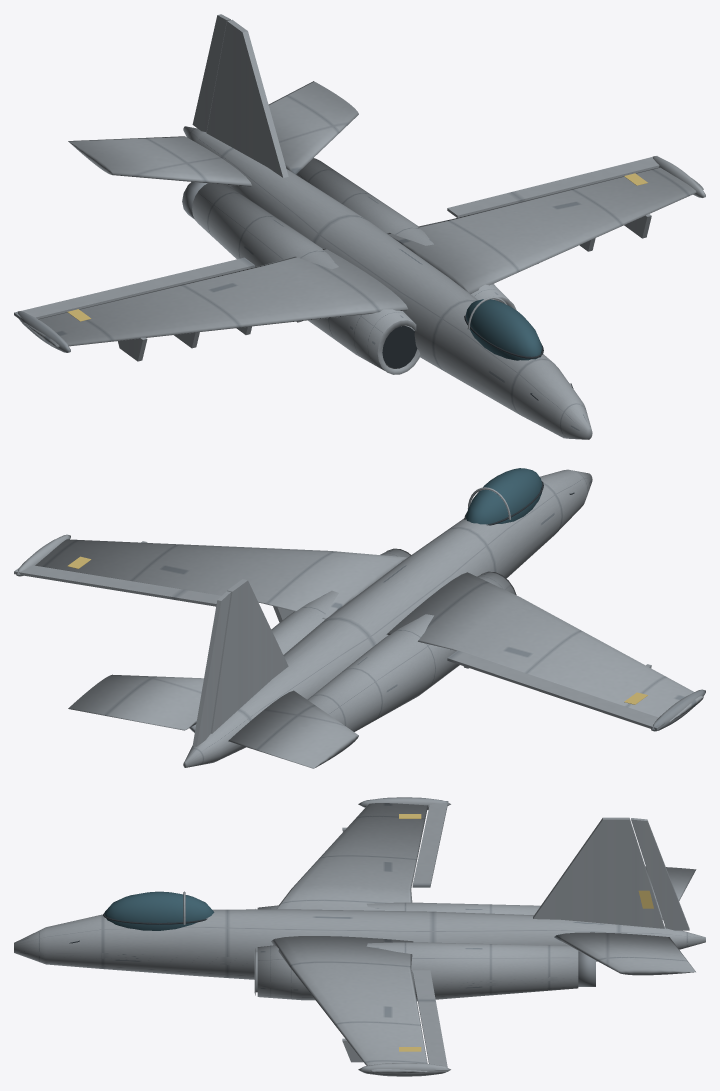
3 renders of one model, top to bottom at view 1: azimuth 30°, elevation 25°; view 2: azimuth 150°, elevation 25°; view 3: azimuth 270°, elevation 25°, orthographic. The views are drawn at different scales.
Visible parts, largest first — view 1: airframe_static, elevator_L, elevator_R, canopy, aileron_L, aileron_R, rudder_center; view 2: airframe_static, elevator_L, elevator_R, canopy, aileron_L, aileron_R, rudder_center; view 3: airframe_static, elevator_R, canopy, rudder_center, aileron_R, aileron_L, elevator_L.
Boxes of the visible parts, <box> form: airframe_static: <box>18,19,705,439</box>; elevator_L: <box>68,136,251,186</box>; elevator_R: <box>268,81,358,174</box>; canopy: <box>464,296,543,360</box>; aileron_L: <box>14,257,254,319</box>; aileron_R: <box>447,156,659,217</box>; rudder_center: <box>192,14,230,132</box>; airframe_static: <box>16,469,705,767</box>; elevator_L: <box>228,690,358,768</box>; elevator_R: <box>68,674,203,730</box>; canopy: <box>464,468,543,525</box>; aileron_L: <box>447,650,665,730</box>; aileron_R: <box>14,565,221,606</box>; rudder_center: <box>192,591,230,746</box>; airframe_static: <box>14,797,705,1076</box>; elevator_R: <box>554,932,695,975</box>; canopy: <box>103,891,214,930</box>; rudder_center: <box>631,818,689,930</box>; aileron_R: <box>412,970,448,1071</box>; aileron_L: <box>412,801,448,887</box>; elevator_L: <box>645,866,696,919</box>.
Size of the model in its own units: 14.36 by 3.97 by 15.53.
5 materials, 1 textured.
